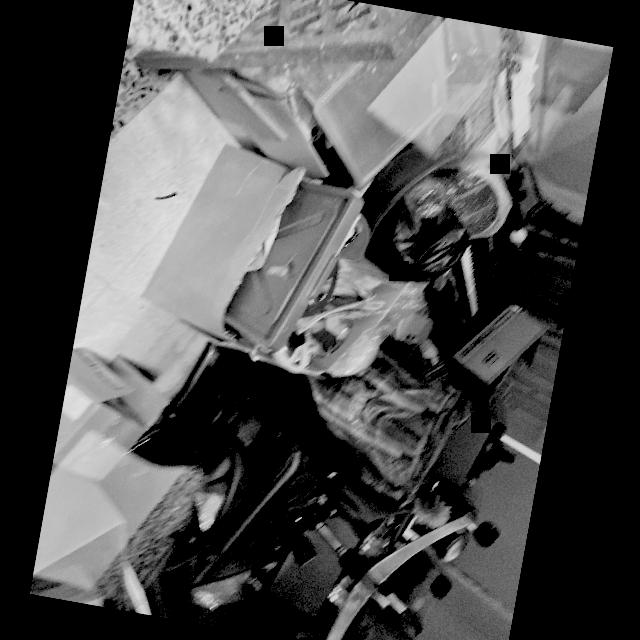cardboard_box: (132, 129, 308, 354), (49, 342, 172, 491), (442, 290, 550, 408), (426, 406, 506, 499)
